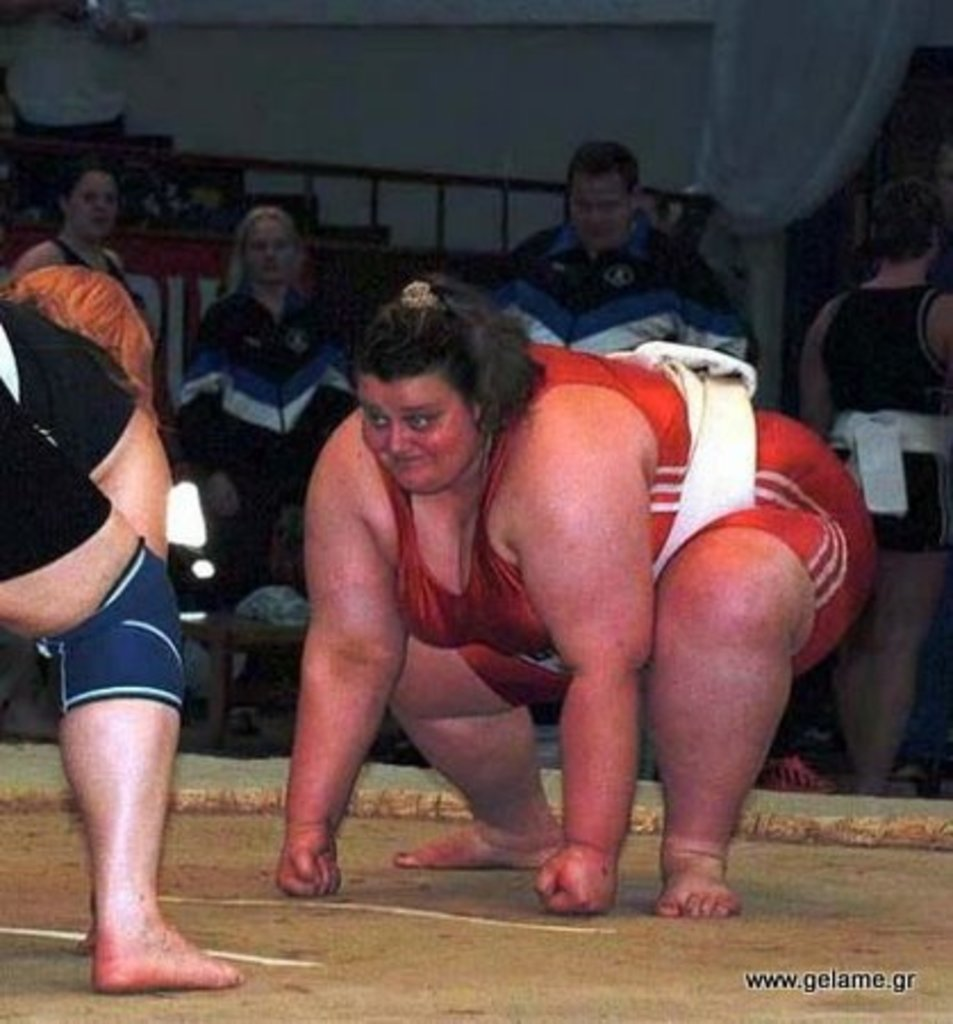Person: (0, 139, 953, 995)
